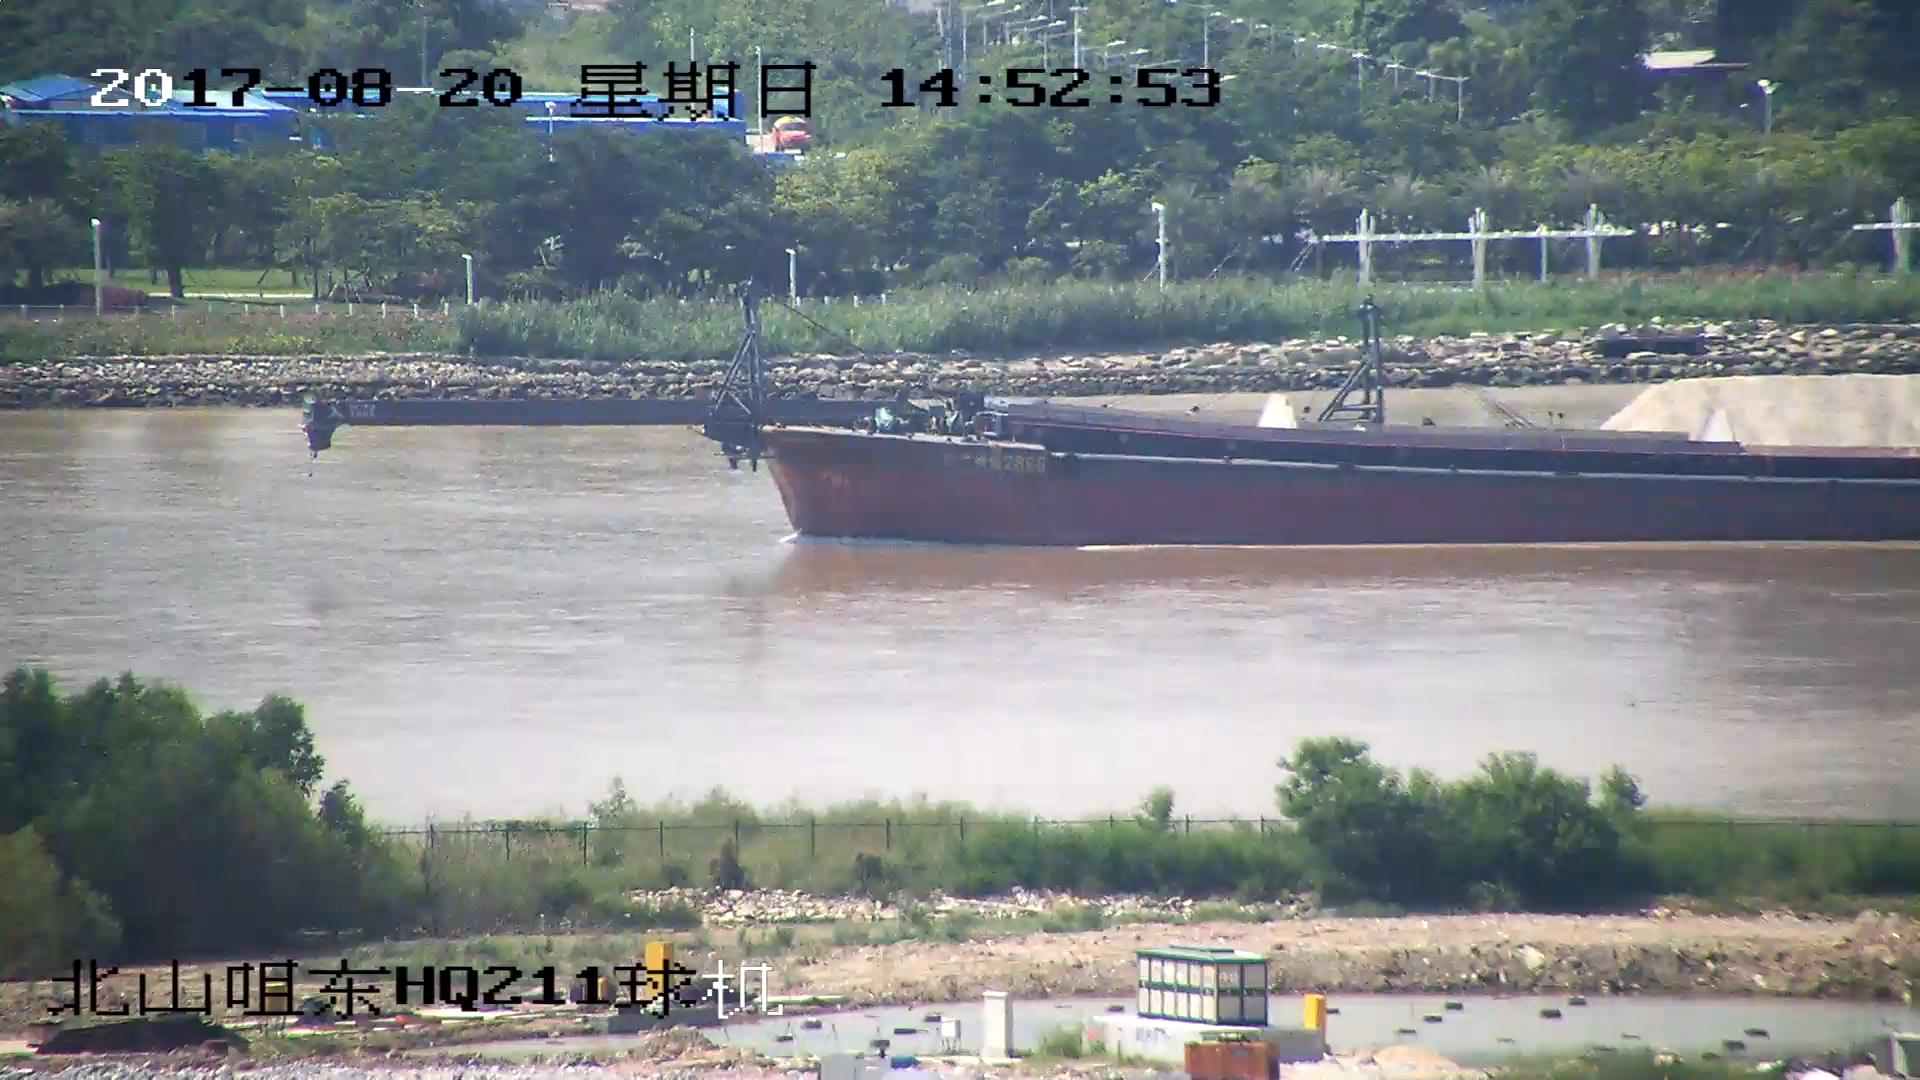bulk cargo carrier: (318, 290, 1920, 544)
ore carrier: (1033, 305, 1920, 462)
